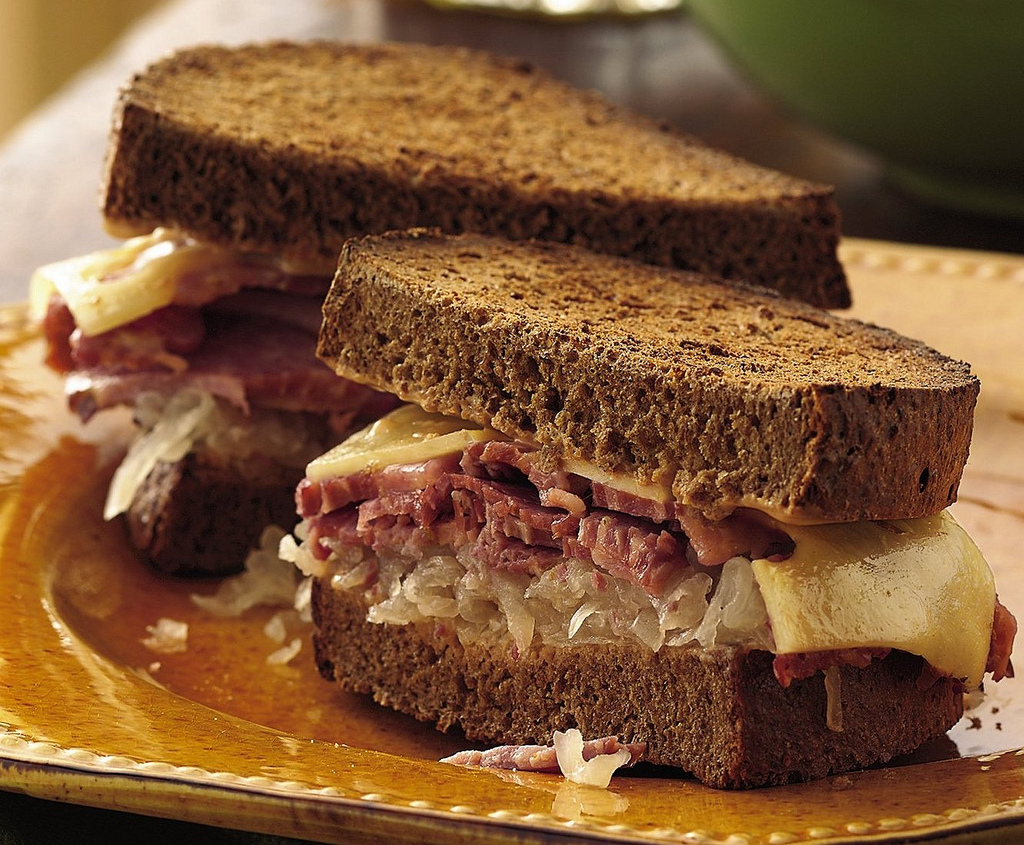slice of bread: (100, 46, 884, 317), (325, 237, 987, 522), (302, 541, 1024, 764), (103, 406, 331, 573)
